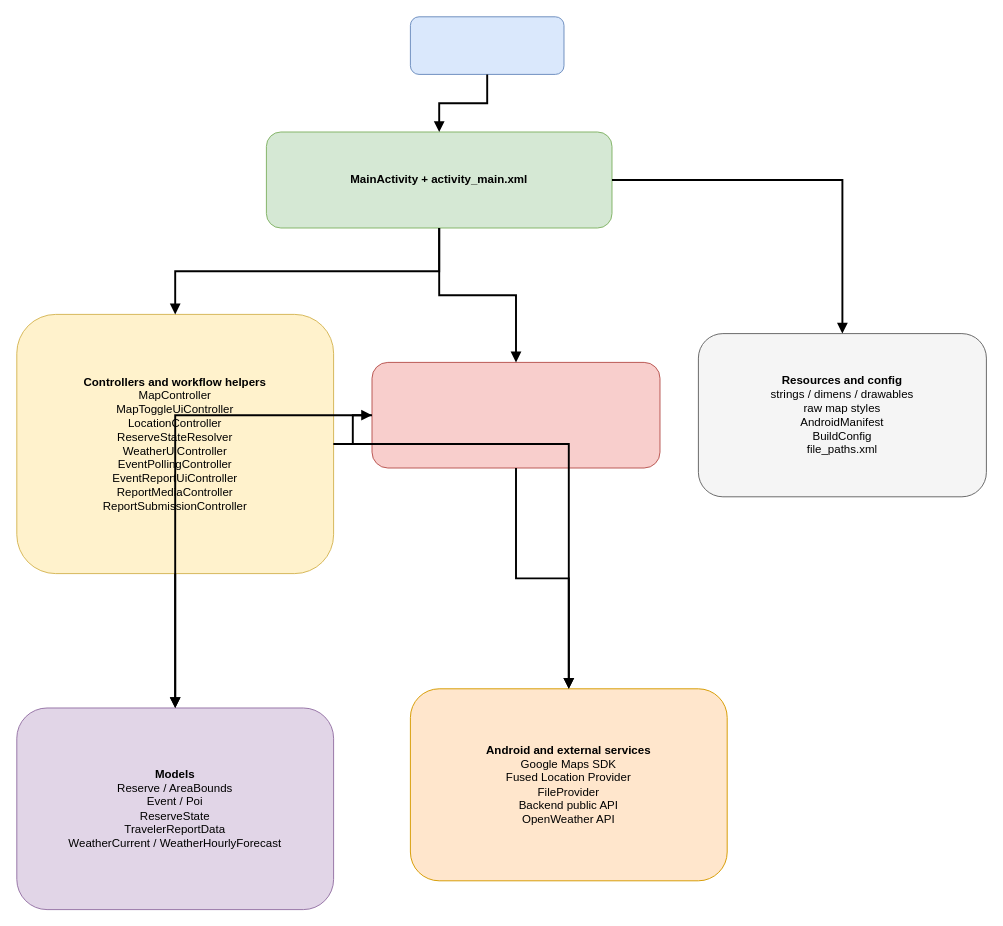
Some shapes in this 1003 by 926 pixel diagram are drawn without their labels. The box of each missing label's shape, as (x1, y1, x2, y2) in pixels:
Integration API clients ReserveApiClient ReportApiClient WeatherApiClient: (371, 361, 660, 468)
Traveler: (409, 16, 564, 74)
